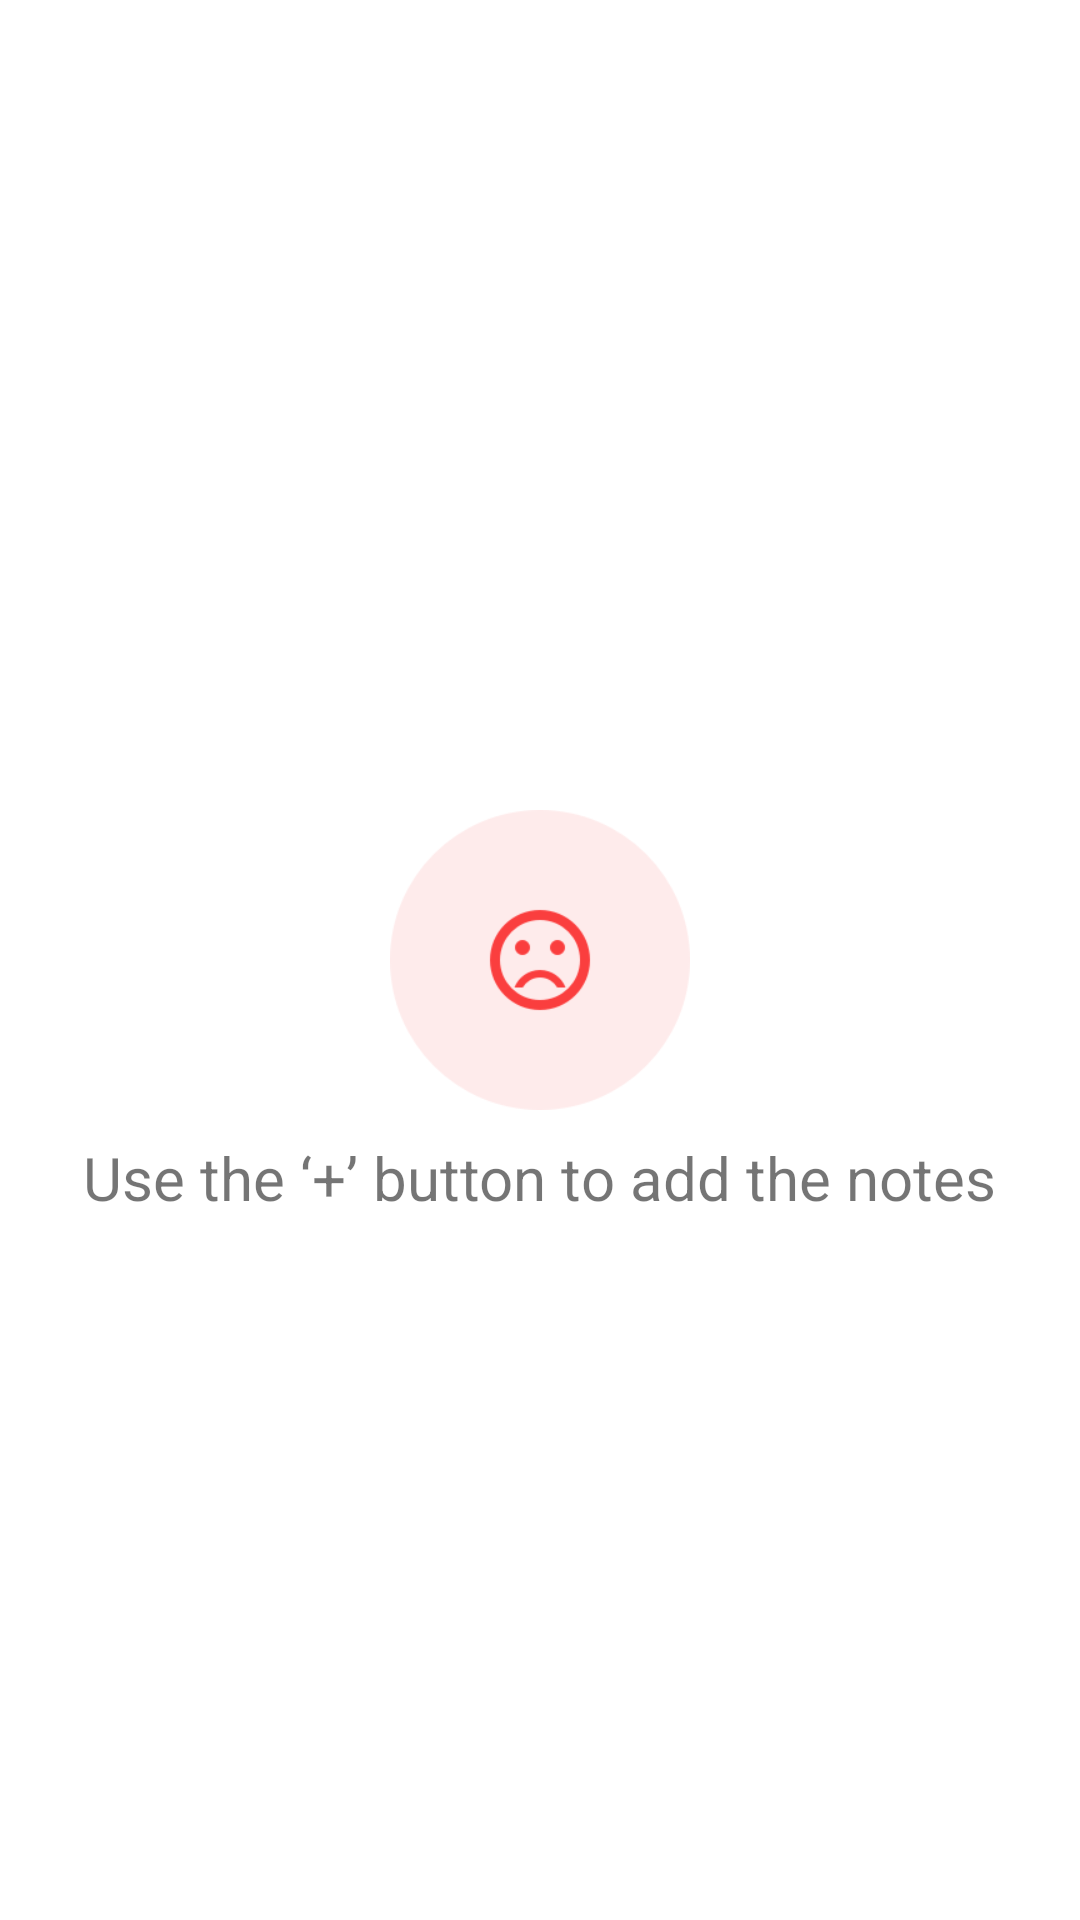

Icon bounding boxes for this 1080×1920 phone screenshot, format {"x1": x1, "y1": y1, "x2": x2, "y2": y2}:
emptysad: {"x1": 390, "y1": 810, "x2": 690, "y2": 1110}
